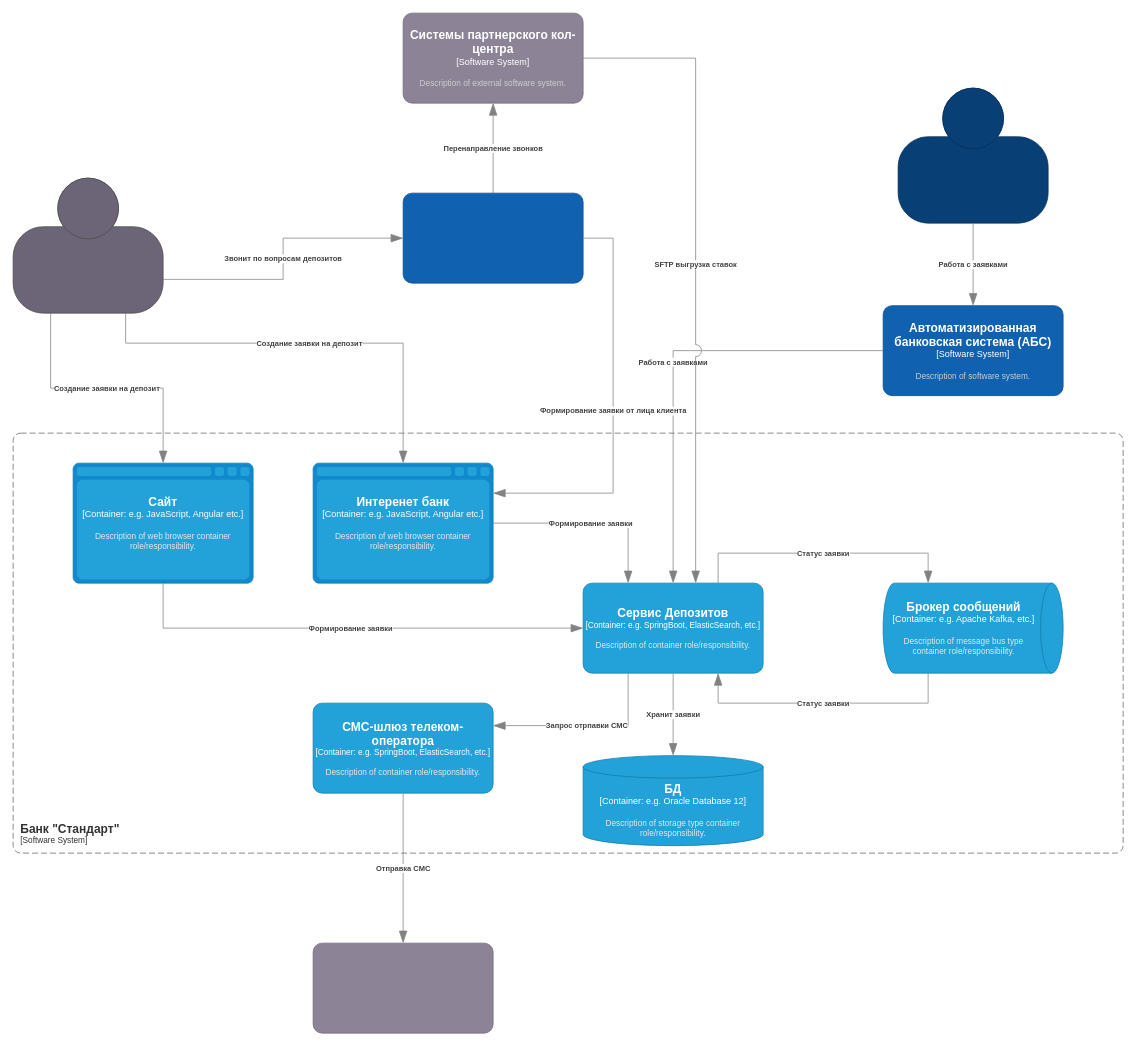
This 1136x1046 diagram has some shape labels left out. Each missing label, with the centre of its shape:
Клиент [Person] Description of external person.: [87,245]
Система кол-центра [Software System] Description of software system.: [492,237]
Сотрудник банка [Person] Description of person.: [972,155]
Телеком-оператор [Software System] Description of external software system.: [402,987]
